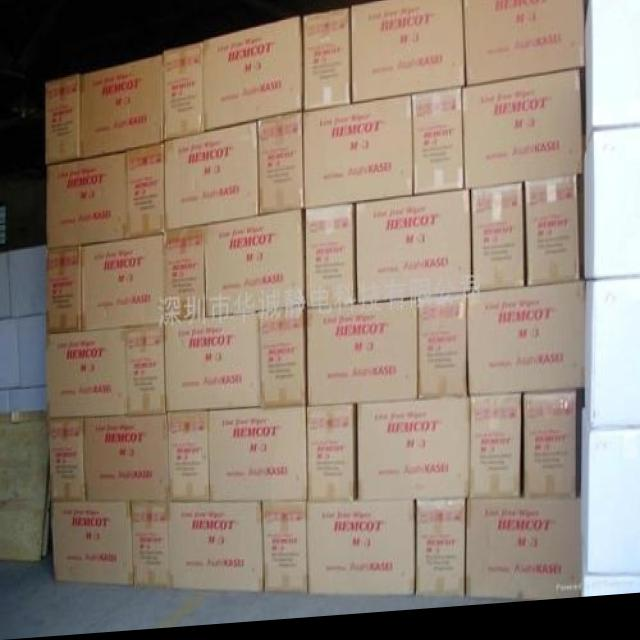box: (463, 76, 584, 195), (354, 196, 473, 308), (467, 290, 584, 401), (303, 101, 415, 213), (351, 0, 464, 107), (306, 304, 418, 411), (358, 403, 471, 507), (466, 507, 582, 607), (204, 21, 303, 135), (464, 0, 585, 92), (204, 214, 307, 319), (164, 124, 261, 235), (307, 507, 416, 601), (166, 317, 262, 415), (209, 410, 306, 506), (170, 504, 264, 595), (80, 57, 163, 158), (45, 151, 129, 250), (81, 235, 166, 332), (84, 415, 169, 504), (47, 329, 128, 420), (50, 502, 134, 588), (524, 184, 584, 295), (524, 397, 583, 508), (469, 399, 525, 508), (472, 190, 526, 299), (412, 94, 464, 201), (305, 208, 356, 313), (301, 12, 352, 115), (418, 302, 469, 405), (306, 407, 358, 506), (415, 508, 467, 605), (260, 315, 308, 412), (258, 116, 304, 215), (262, 506, 309, 596), (163, 43, 205, 143), (164, 228, 206, 326), (168, 411, 211, 505), (125, 143, 165, 238), (131, 503, 173, 590), (126, 327, 166, 417), (49, 418, 86, 502), (45, 77, 80, 164), (47, 247, 82, 334)
